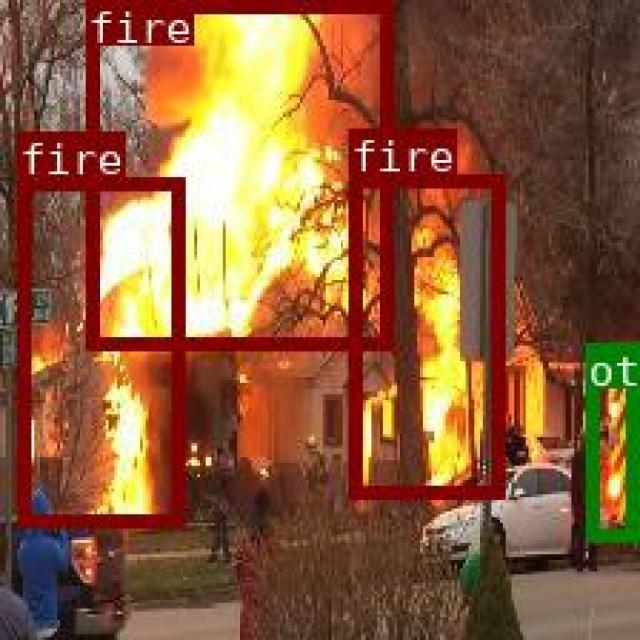fire: (83, 0, 388, 346), (16, 177, 181, 526), (348, 172, 502, 495)
